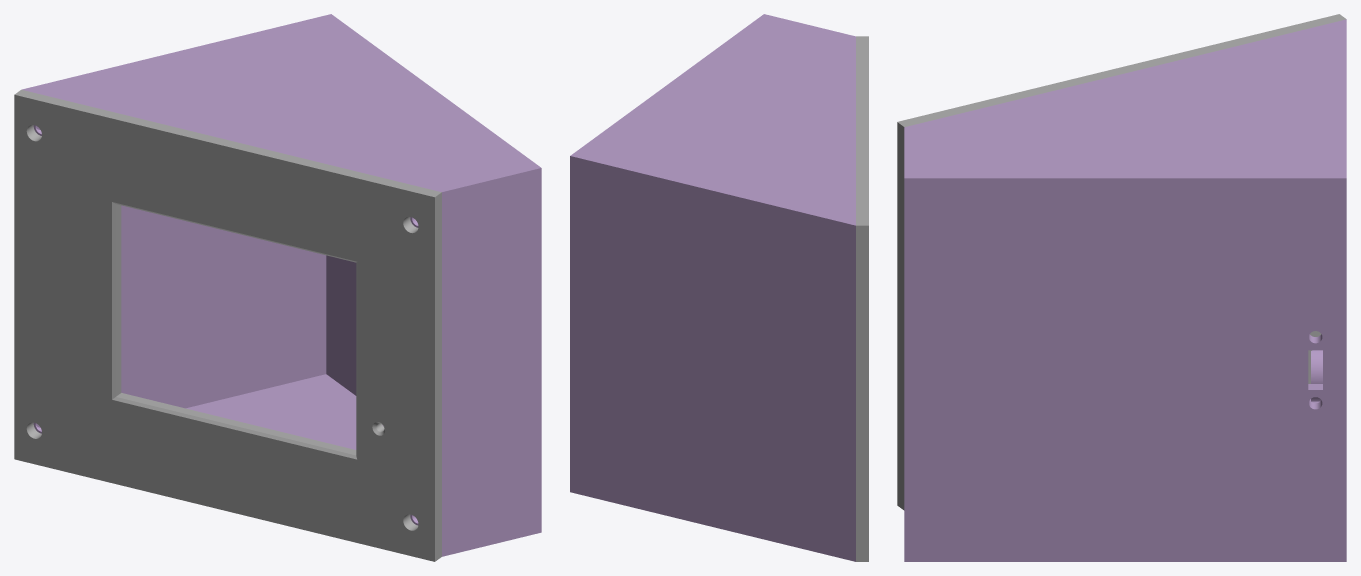
The model's file is base_plate.glb.
3 renders of one model, left to right at view 1: azimuth 30°, elevation 25°; view 2: azimuth 150°, elevation 25°; view 3: azimuth 270°, elevation 25°, orthographic. The views are drawn at different scales.
Parts seen in each view (by area): view 1: base, front_panel; view 2: base, front_panel; view 3: base, front_panel.
Boxes of the visible parts, <box> form: base: <box>22,14,541,556</box>; front_panel: <box>14,89,441,561</box>; base: <box>570,14,855,561</box>; front_panel: <box>856,36,868,561</box>; base: <box>904,19,1346,561</box>; front_panel: <box>897,14,1346,510</box>.
Size of the model in its own units: 80 by 87 by 92.43.
